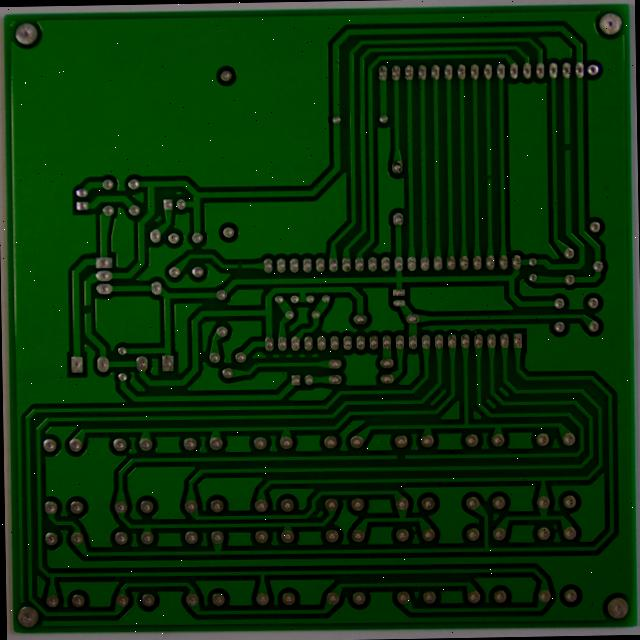open_circuit: (390, 449, 408, 462), (79, 298, 92, 316), (559, 137, 571, 154), (481, 169, 495, 183), (231, 258, 245, 271)
